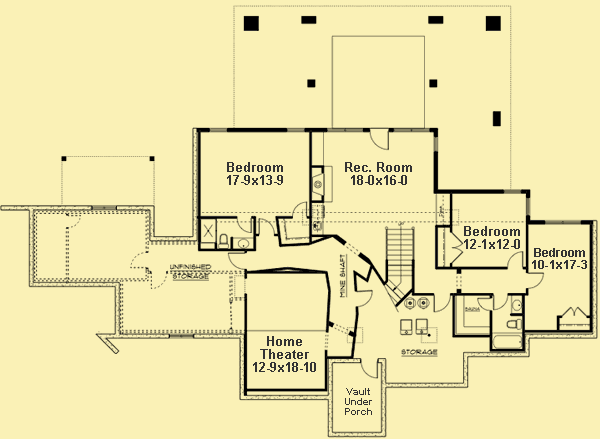door: (365, 128, 393, 152), (449, 229, 465, 264), (356, 357, 379, 379), (524, 271, 545, 293), (354, 287, 374, 309), (228, 249, 248, 271), (503, 249, 523, 269), (430, 293, 451, 312), (235, 215, 256, 234), (288, 200, 309, 218), (255, 218, 275, 236), (562, 306, 589, 318), (491, 293, 508, 312), (475, 296, 492, 312)
large_sink: (503, 318, 525, 331), (217, 231, 230, 250)
stairs: (384, 225, 416, 309)
tub: (490, 331, 525, 351)
